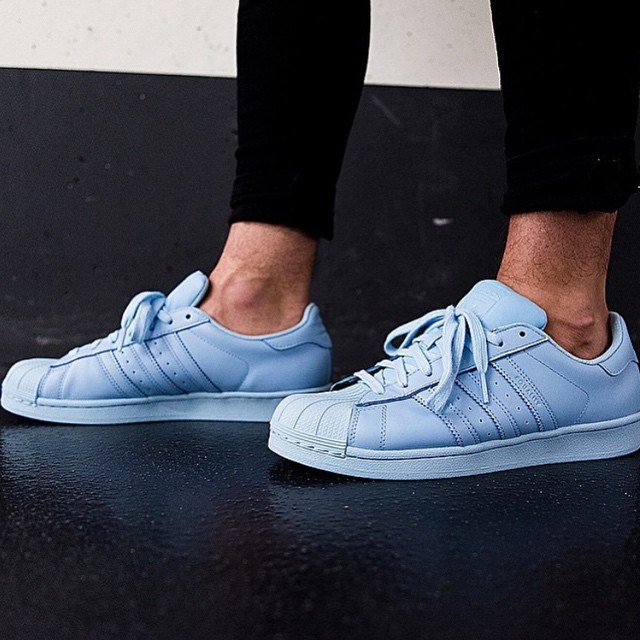sneaker: (253, 181, 640, 499), (1, 198, 344, 437)
